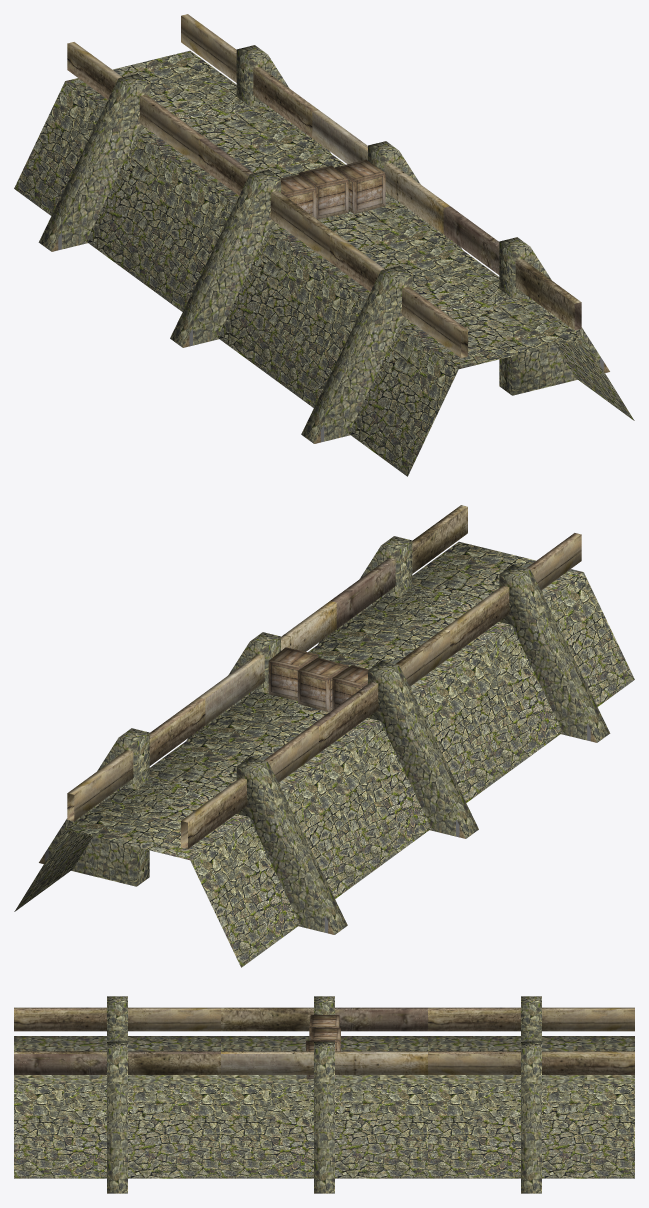
Rendered from I-Tile.Obst.Crates.fbx.
3 views of the same model, one above another, from view 1: azimuth 30°, elevation 25°; view 2: azimuth 150°, elevation 25°; view 3: azimuth 270°, elevation 25° (orthographic). The views are drawn at different scales.
Parts seen in each view (by area): view 1: I-Tile.Obst.Crates; view 2: I-Tile.Obst.Crates; view 3: I-Tile.Obst.Crates.
Boxes of the visible parts, left/top/right/bottom form: I-Tile.Obst.Crates: left=14, top=14, right=634, bottom=476; I-Tile.Obst.Crates: left=14, top=505, right=634, bottom=967; I-Tile.Obst.Crates: left=14, top=996, right=634, bottom=1193.
Size of the model in its own units: 130 by 60.81 by 300.
